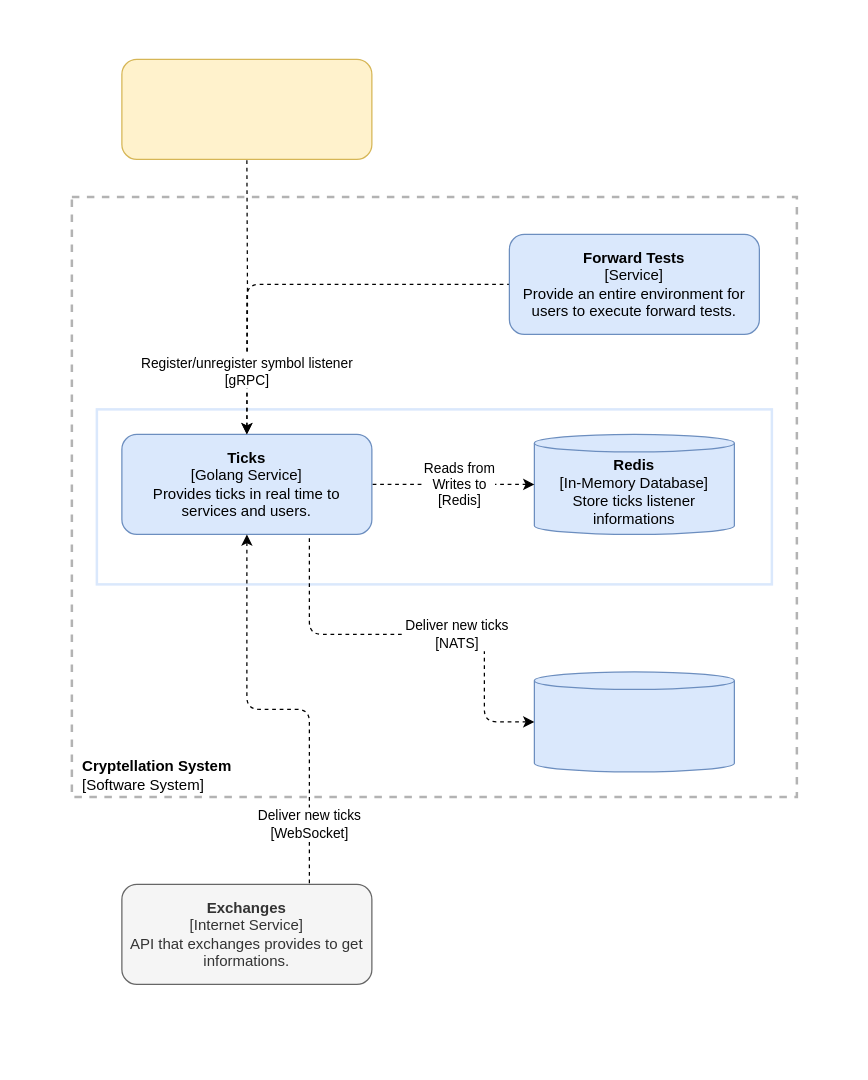
This 868x1080 diagram has some shape labels left out. The shapes that lost their labels are listed below. From the top down, each one's box as (x1, y1, x2, y2) in pixels, then its label:
(121, 58, 372, 159): User [Application] Application that a user will run to execute its strategies.
(95, 408, 772, 585): Ticks [Microservice]
(533, 671, 734, 772): NATS [Message Broker Service] Publish/Receive messages asynchronously
